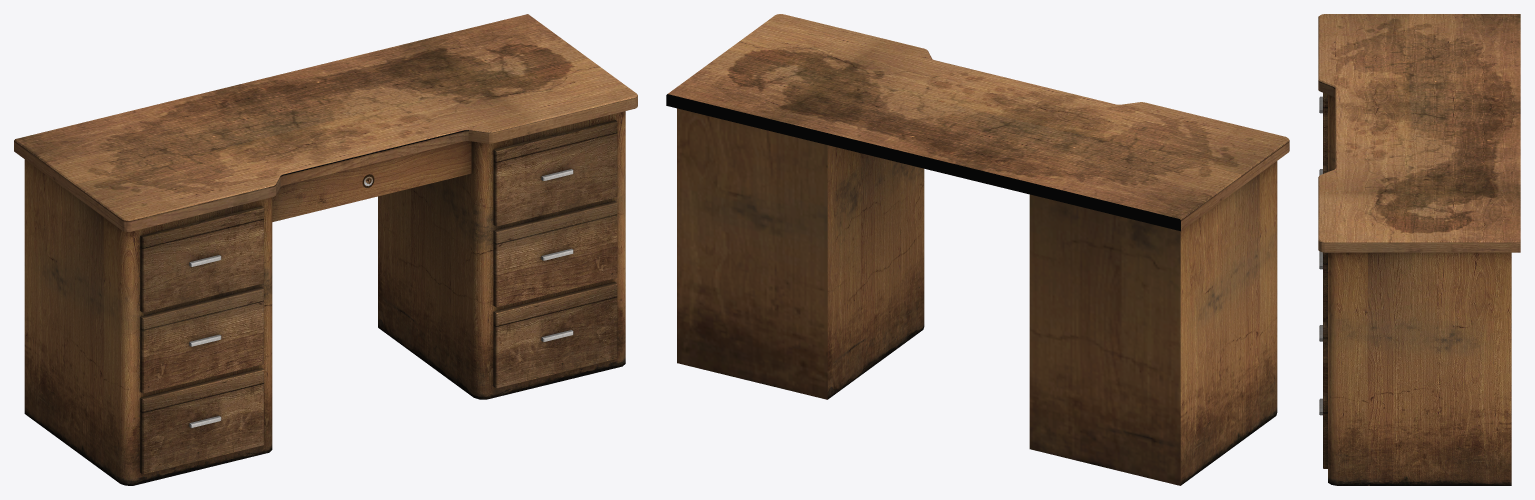
File: desk01.FBX
3 views of the same model, side by side, from view 1: azimuth 30°, elevation 25°; view 2: azimuth 150°, elevation 25°; view 3: azimuth 270°, elevation 25° (orthographic). The views are drawn at different scales.
Parts seen in each view (by area): view 1: SM_Desk01; view 2: SM_Desk01; view 3: SM_Desk01.
Boxes of the visible parts, x1,y1,x2,y2 form: SM_Desk01: (14, 14, 637, 485); SM_Desk01: (666, 14, 1289, 485); SM_Desk01: (1318, 14, 1520, 485).
Size of the model in its own units: 174 by 87.82 by 65.26.
1 material, 1 textured.
